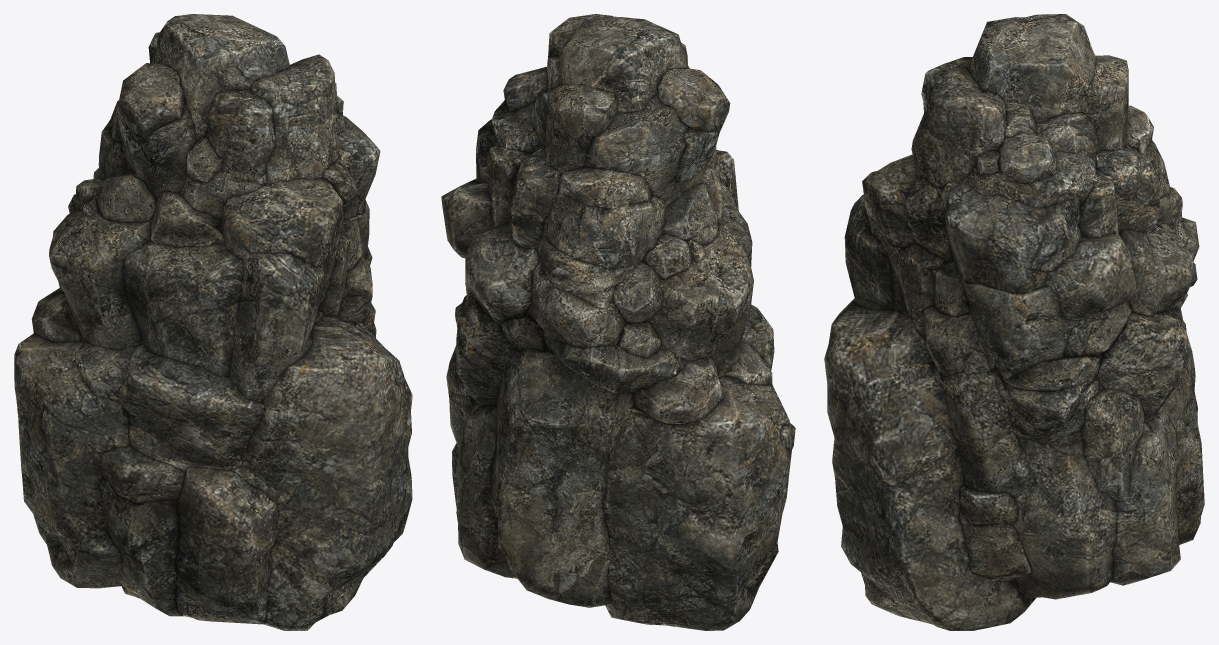
Rendered from RockGroup4 (1).fbx.
The picture shows the model from 3 angles, left to right: view 1: azimuth 30°, elevation 25°; view 2: azimuth 150°, elevation 25°; view 3: azimuth 270°, elevation 25°; orthographic projection. The views are drawn at different scales.
Visible parts, largest first — view 1: RockGroup4_LOD0(Clone); view 2: RockGroup4_LOD0(Clone); view 3: RockGroup4_LOD0(Clone).
Boxes of the visible parts, x1=… form: RockGroup4_LOD0(Clone): x1=14, y1=14, x2=412, y2=630; RockGroup4_LOD0(Clone): x1=441, y1=14, x2=795, y2=630; RockGroup4_LOD0(Clone): x1=824, y1=14, x2=1204, y2=630.
Bounding box in the file's own units: 629 × 1051 × 636.
